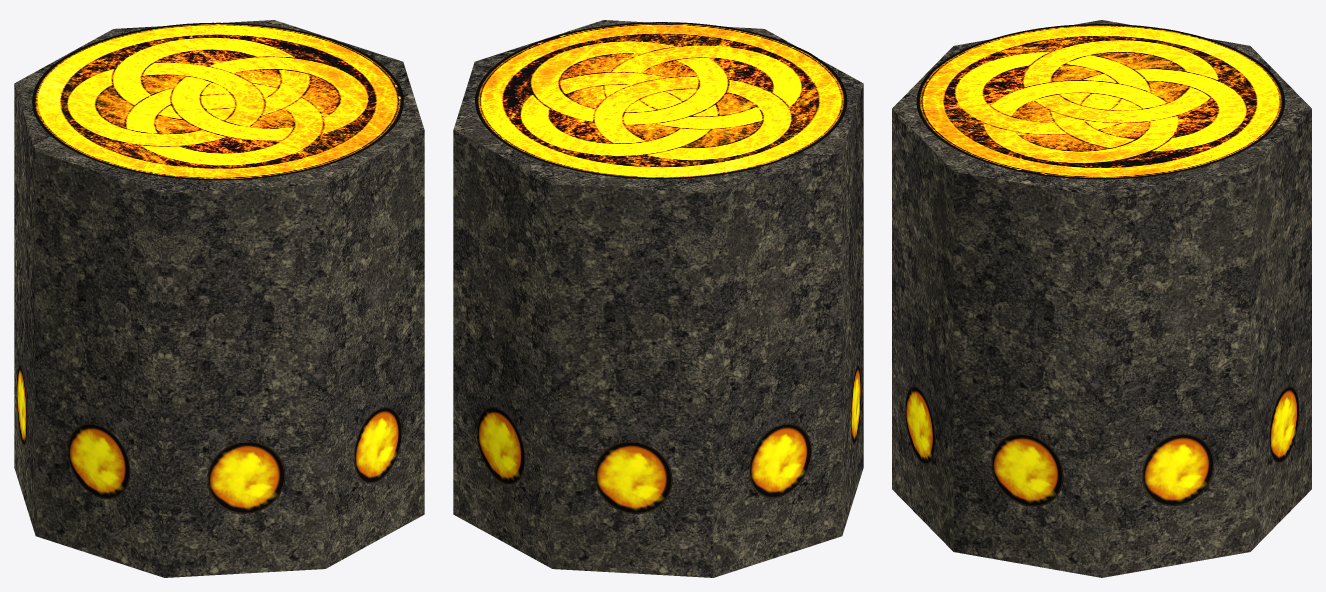
The model's file is mountain_cylinder.gltf.
3 views of the same model, side by side, from view 1: azimuth 30°, elevation 25°; view 2: azimuth 150°, elevation 25°; view 3: azimuth 270°, elevation 25° (orthographic).
Visible parts, largest first — view 1: mountain_cylinder_glb; view 2: mountain_cylinder_glb; view 3: mountain_cylinder_glb.
Part boxes in pixels (x1,y1,x2,y2): mountain_cylinder_glb: (14, 20, 424, 577); mountain_cylinder_glb: (453, 20, 863, 577); mountain_cylinder_glb: (892, 20, 1311, 577).
Size of what is drawn, in the model's own units: 1.03 by 1.04 by 1.03.
2 materials, 2 textured.
